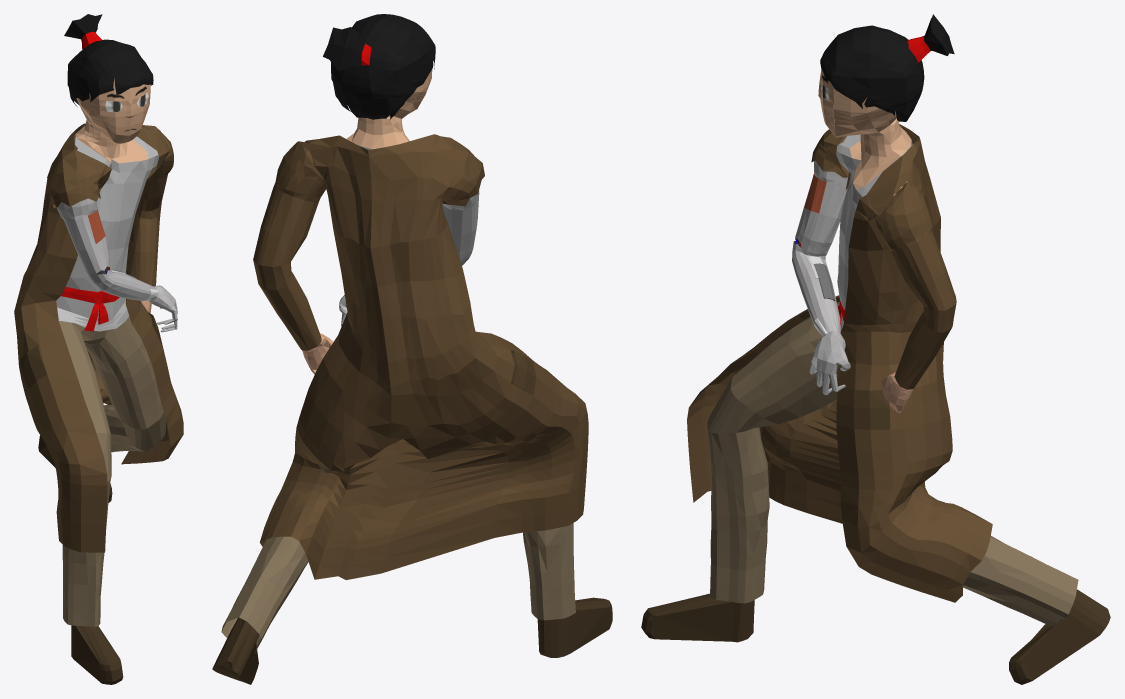
The model's file is One_RR_000018.obj.
The picture shows the model from 3 angles, left to right: view 1: azimuth 30°, elevation 25°; view 2: azimuth 150°, elevation 25°; view 3: azimuth 270°, elevation 25°; orthographic projection. The views are drawn at different scales.
Parts seen in each view (by area): view 1: Hair_Cube.004; view 2: Hair_Cube.004; view 3: Hair_Cube.004.
Part boxes in pixels (<box>): Hair_Cube.004: <box>14,14,183,684</box>; Hair_Cube.004: <box>212,14,612,684</box>; Hair_Cube.004: <box>641,14,1110,684</box>.
Size of the model in its own units: 1.26 by 3.62 by 2.3.
